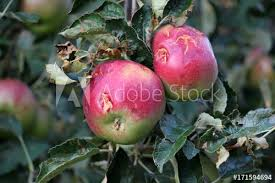damaged_apple: (78, 59, 165, 148), (151, 23, 228, 101)
